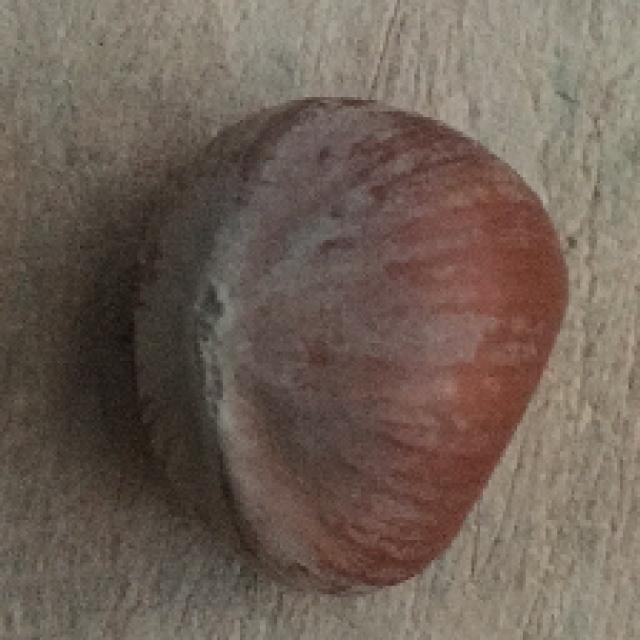qualityHazelnut: (103, 89, 578, 608)
